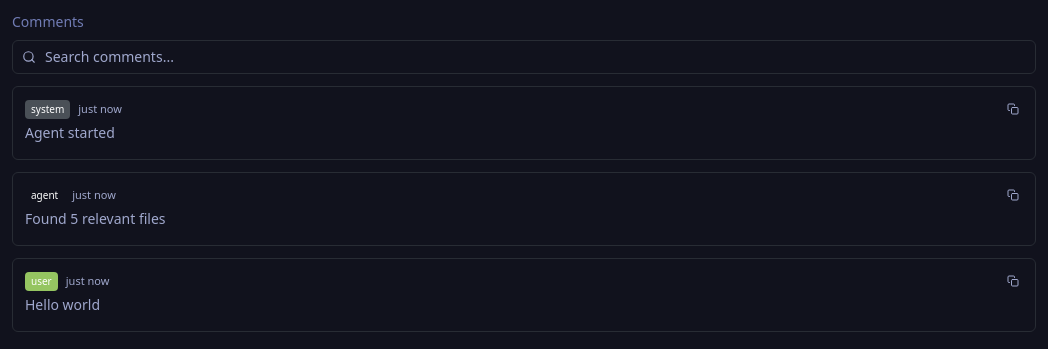
Scenario: CommentsList › comment search › should filter comments by search query (case-insensitive)
Type "hello" into the field with test id "comment-search-input" at (524, 57), box [12,40,1036,74]
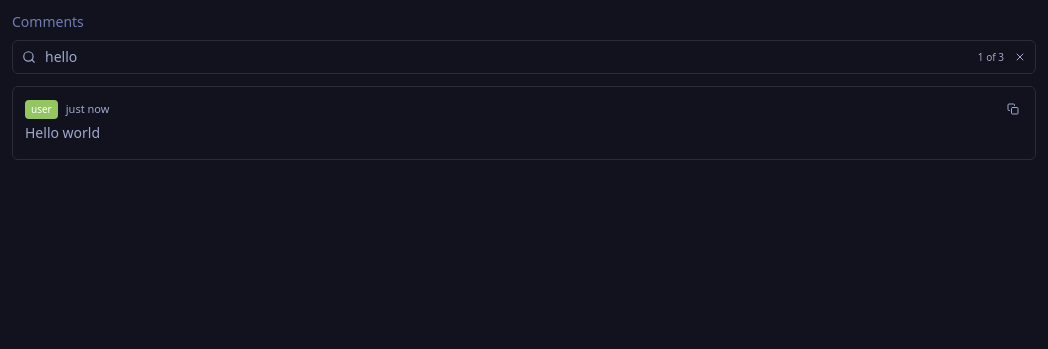
expect the text "Hello world" is shown: met, box [25,123,100,142]
expect the text "Found 5 relevant files" is gone: met
expect the text "Agent started" is gone: met
